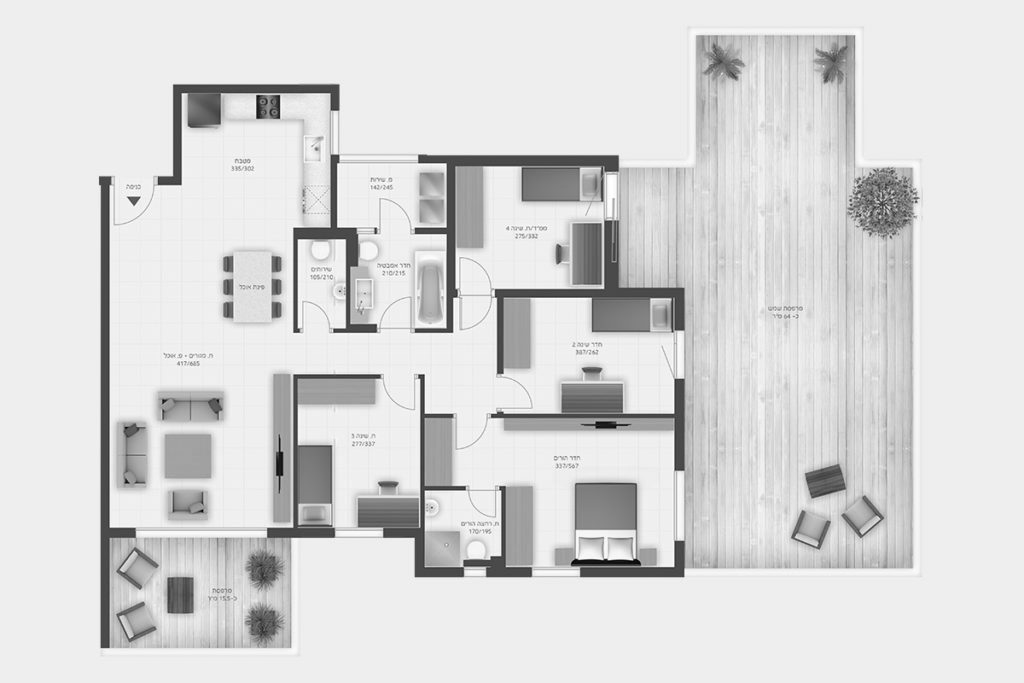door: (110, 179, 161, 223), (493, 376, 541, 412), (457, 411, 493, 450), (458, 298, 495, 335), (458, 257, 493, 296), (385, 375, 418, 413), (376, 198, 412, 232), (468, 490, 501, 523), (300, 299, 332, 332), (381, 298, 413, 329)
room: (500, 420, 675, 564), (113, 363, 267, 525), (112, 232, 290, 355), (508, 299, 671, 411), (181, 101, 327, 223), (457, 169, 602, 286), (303, 385, 415, 526), (432, 497, 500, 560)
wall: (98, 177, 110, 645), (172, 80, 340, 95), (420, 152, 619, 162), (446, 167, 456, 336), (418, 375, 426, 586), (496, 290, 683, 299), (291, 376, 300, 531), (493, 412, 684, 419), (172, 82, 183, 193), (675, 377, 686, 468), (585, 567, 681, 577), (269, 529, 338, 539), (498, 292, 506, 375), (298, 375, 385, 381)
window: (138, 527, 269, 542), (340, 149, 420, 165), (334, 527, 384, 539), (532, 568, 581, 579), (330, 113, 340, 151), (466, 568, 484, 578)
